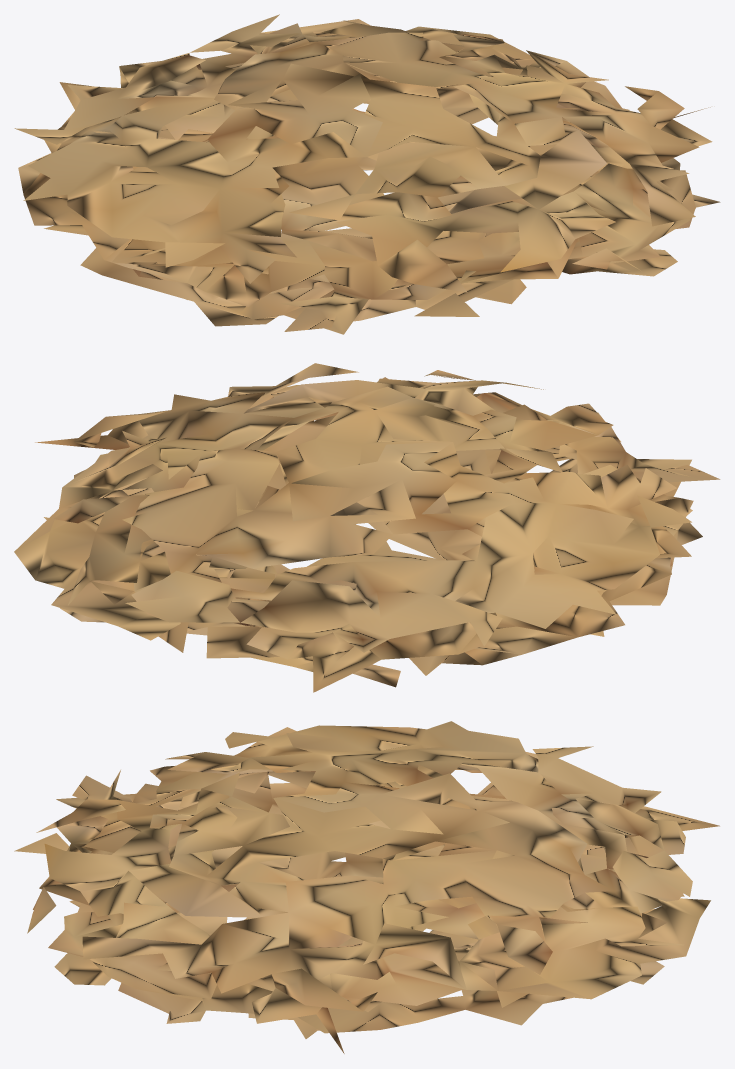
File: pile.glb
3 renders of one model, top to bottom at view 1: azimuth 30°, elevation 25°; view 2: azimuth 150°, elevation 25°; view 3: azimuth 270°, elevation 25°, orthographic.
Parts seen in each view (by area): view 1: object; view 2: object; view 3: object.
Boxes of the visible parts, left/top/right/bottom form: object: left=14, top=14, right=720, bottom=334; object: left=14, top=363, right=720, bottom=692; object: left=14, top=721, right=719, bottom=1053.
Bounding box in the file's own units: 0.79 × 0.12 × 0.7558.
